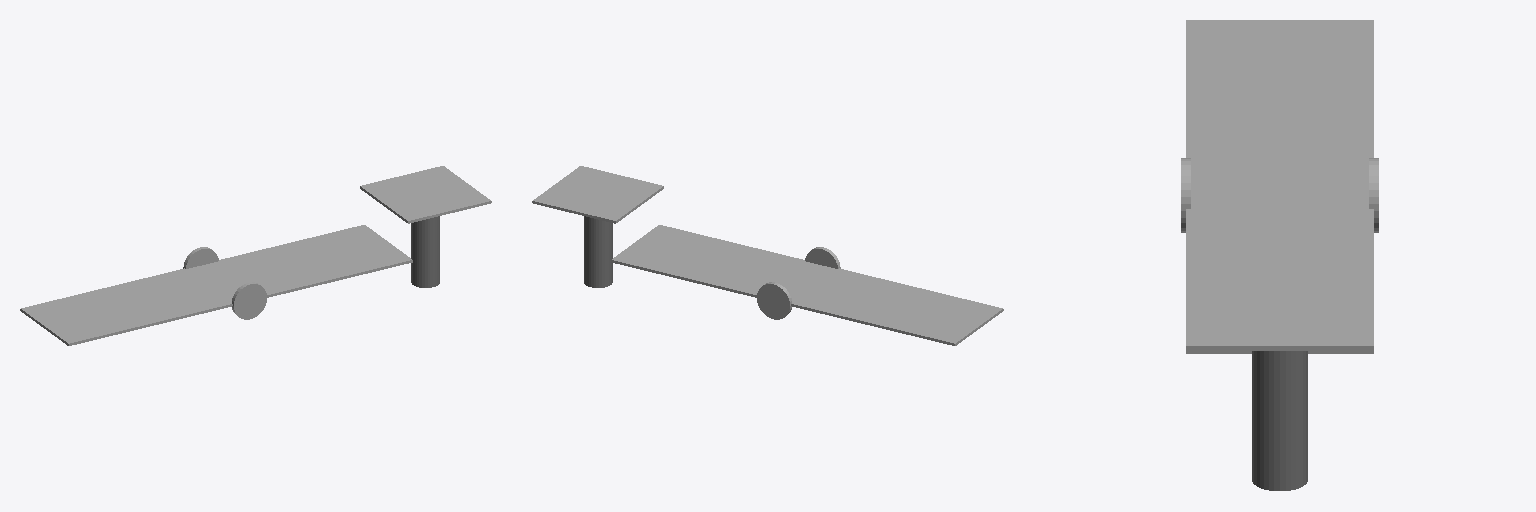
robot.urdf — sheep:
<?xml version="1.0"?>
<robot name="sheep">

  <material name="white">    
      <color rgba="0.7 0.7 0.7 1.0"/>  
  </material>
  <material name="black">    
      <color rgba="0.5 0.5 0.5 0.0"/>  
  
  </material>
  <link name="base">
    <visual>
      <origin xyz="0 0 0"/>
      <geometry>
        <box size="1 1 0.03"/>
      </geometry>
      <material name="white"/>
    </visual>
    <collision>
      <origin xyz="0 0 0"/>
      <geometry>
        <box size="1 1 0.03"/>
      </geometry>
    </collision>
    <inertial>
      <mass value="0.1"/>
      <inertia ixx="0.001" ixy="0.0" ixz="0.0" iyy="0.001" iyz="0.0" izz="0.001"/>
    </inertial>
  </link>

  <link name="seesaw">
    <visual>
      <origin xyz="-0.1031 0 0"/>
      <geometry>
        <box size="4.123 1 0.03"/>
      </geometry>
      <material name="white"/>
    </visual>
    <collision>
      <origin xyz="-0.1031 0 0"/>
      <geometry>
        <box size="4.123 1 0.03"/>
      </geometry>
    </collision>
    <inertial>
      <mass value="100"/>
      <inertia ixx="100" ixy="0.0" ixz="0.0" iyy="100" iyz="0.0" izz="100"/>
    </inertial>
  </link>
  <joint name="link" type="revolute">
    <origin xyz="-2.4 0 -0.455" rpy="0 0 0"/>
    <parent link="base"/>
    <child link="seesaw"/>
    <axis xyz="0.0 1.0 0.0"/>
    <limit effort="0" velocity="0.2"/>
  </joint>
  
  <link name="shaft_r">
    <visual>
      <origin xyz="0 -0.5 0" rpy="1.5708 0 0"/>
      <geometry>
        <cylinder radius="0.2" length="0.05"/>
      </geometry>
      <material name="white"/>
    </visual>
  </link>
  <joint name="shaft_r link" type="fixed">
    <origin xyz="0 0 0" rpy="0 0 0"/>
    <parent link="seesaw"/>
    <child link="shaft_r"/>
    <axis xyz="0.0 1.0 0.0"/>
  </joint>
  
  <link name="shaft_l">
    <visual>
      <origin xyz="0 0.5 0" rpy="1.5708 0 0"/>
      <geometry>
        <cylinder radius="0.2" length="0.05"/>
      </geometry>
      <material name="white"/>
    </visual>
  </link>
  <joint name="shaft_l link" type="fixed">
    <origin xyz="0 0 0" rpy="0 0 0"/>
    <parent link="seesaw"/>
    <child link="shaft_l"/>
    <axis xyz="0.0 1.0 0.0"/>
  </joint>
  
  <link name="column">
    <visual>
      <origin xyz="0 0 -0.5"/>
      <geometry>
        <cylinder radius="0.15" length="1"/>
      </geometry>
      <material name="black"/>
    </visual>
    <collision>
      <origin xyz="0 0 -0.5"/>
      <geometry>
        <cylinder radius="0.2" length="1"/>
      </geometry>
    </collision>
  </link>
  <joint name="column_mount" type="fixed">
    <parent link="base"/>
    <child link="column"/>
  </joint>
  
</robot>

--- What the picture shows (computed from the rendered views, not written in the file) ---
The picture shows the robot from 3 angles, left to right: view 1: azimuth 30°, elevation 25°; view 2: azimuth 150°, elevation 25°; view 3: azimuth 270°, elevation 25°; orthographic projection.
Robot: sheep — 5 links, 4 joints (1 revolute, 3 fixed); root link base; default pose: every joint at zero.
Links seen in each view (by area): view 1: seesaw, base, column, shaft_r; view 2: seesaw, base, column, shaft_l; view 3: seesaw, base, column, shaft_r, shaft_l.
Link boxes in pixels (x1,y1,x2,y2): seesaw: (20, 225, 412, 345); base: (360, 166, 491, 223); column: (411, 216, 439, 287); shaft_r: (232, 282, 266, 319); seesaw: (611, 225, 1003, 345); base: (532, 166, 663, 223); column: (584, 216, 612, 287); shaft_l: (757, 282, 791, 319); seesaw: (1186, 20, 1373, 353); base: (1186, 266, 1373, 350); column: (1252, 351, 1307, 490); shaft_r: (1181, 158, 1190, 232); shaft_l: (1369, 158, 1378, 232).
Size in the robot's own frame: 5.06 by 1.05 by 1.01 metres.
Geometry: primitives only (box / cylinder / sphere), no mesh files.